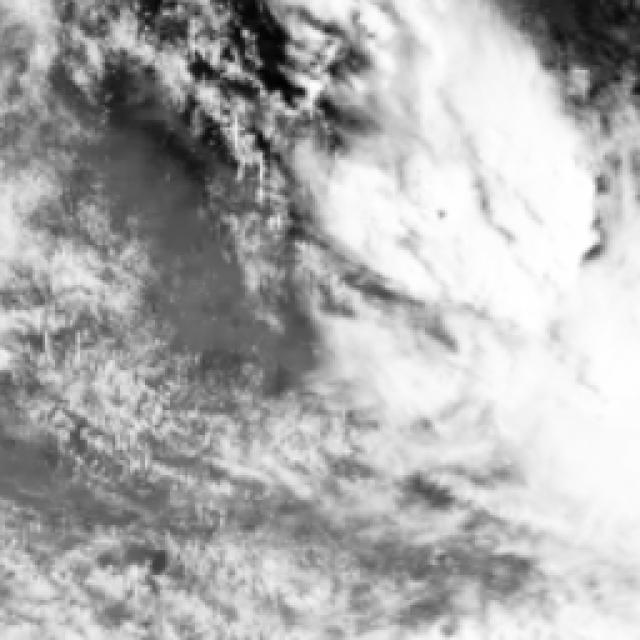CB: (413, 70, 546, 281), (525, 296, 640, 497)
